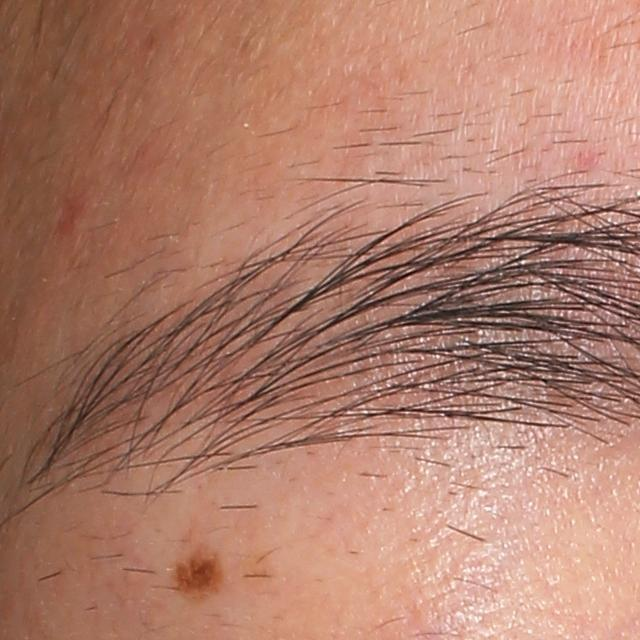nevus: (173, 538, 228, 604)
